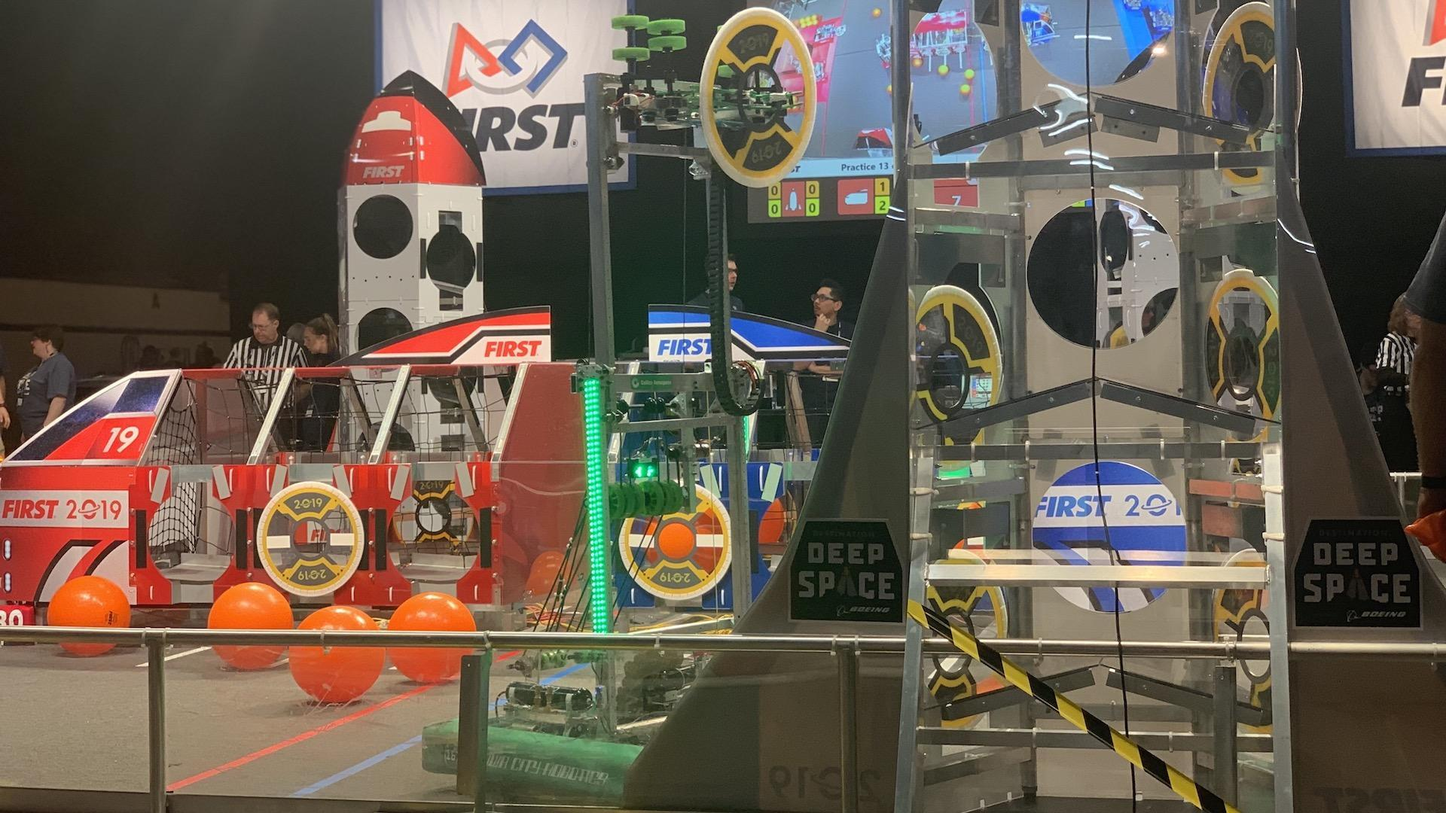robot: (408, 4, 835, 804)
